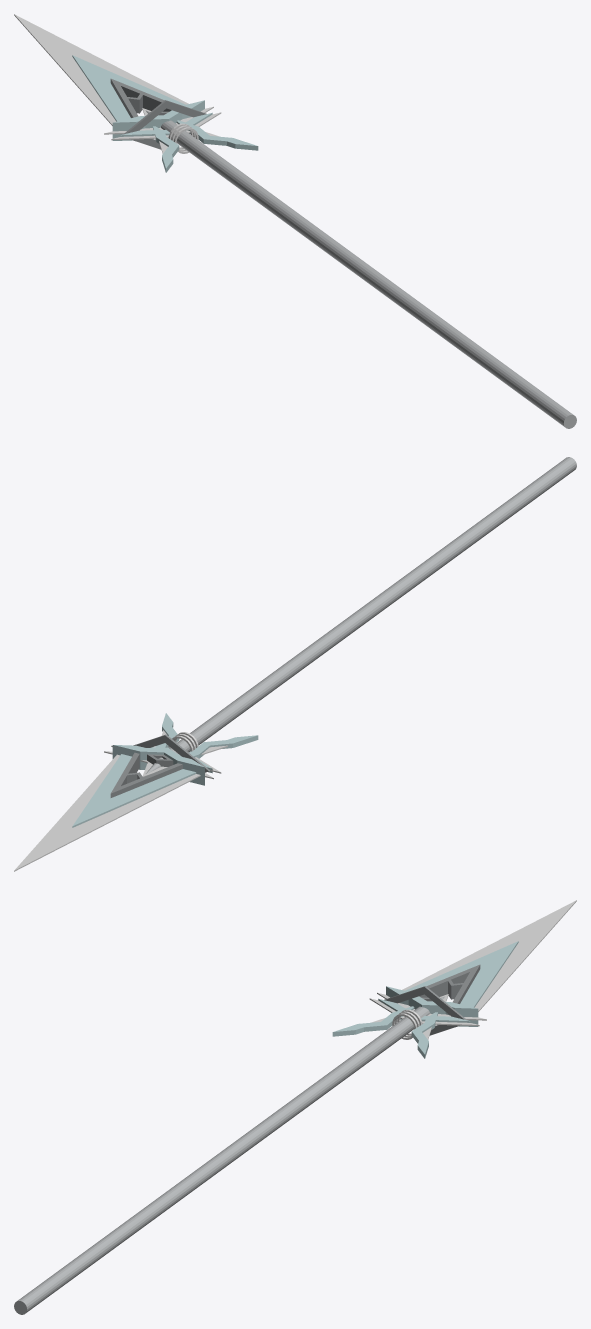
Rendered from IceLance.glb.
The picture shows the model from 3 angles, top to bottom: view 1: azimuth 30°, elevation 25°; view 2: azimuth 150°, elevation 25°; view 3: azimuth 330°, elevation 25°; orthographic projection.
Parts seen in each view (by area): view 1: Mesh_Mesh_head_geo.001_lambert2SG.001; view 2: Mesh_Mesh_head_geo.001_lambert2SG.001; view 3: Mesh_Mesh_head_geo.001_lambert2SG.001.
Boxes of the visible parts, <box> form: Mesh_Mesh_head_geo.001_lambert2SG.001: <box>14,14,576,428</box>; Mesh_Mesh_head_geo.001_lambert2SG.001: <box>14,457,576,871</box>; Mesh_Mesh_head_geo.001_lambert2SG.001: <box>14,900,576,1314</box>.
Size of the model in its own units: 25 by 11 by 219.
